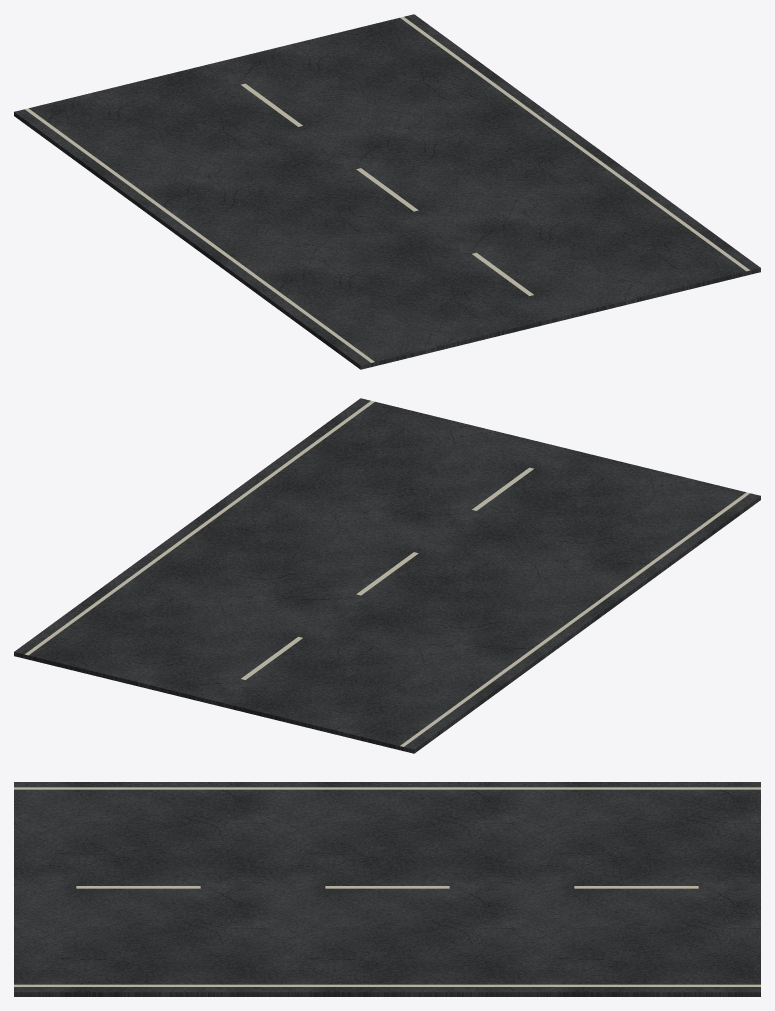
The model's file is road-straight-12m.glb.
The picture shows the model from 3 angles, top to bottom: view 1: azimuth 30°, elevation 25°; view 2: azimuth 150°, elevation 25°; view 3: azimuth 270°, elevation 25°; orthographic projection. The views are drawn at different scales.
Visible parts, largest first — view 1: Asphalt, Edge marking, Edge marking.001; view 2: Asphalt, Edge marking, Edge marking.001; view 3: Asphalt, Edge marking, Edge marking.001.
Boxes of the visible parts, x1,y1,x2,y2 form: Asphalt: [14, 14, 760, 369]; Edge marking: [24, 108, 374, 362]; Edge marking.001: [400, 16, 749, 271]; Asphalt: [14, 398, 760, 753]; Edge marking: [400, 492, 750, 746]; Edge marking.001: [25, 400, 374, 655]; Asphalt: [14, 782, 760, 996]; Edge marking: [14, 787, 760, 789]; Edge marking.001: [14, 984, 760, 986].
Bounding box in the file's own units: 8 × 0.081 × 12.
2 materials, 1 textured.
